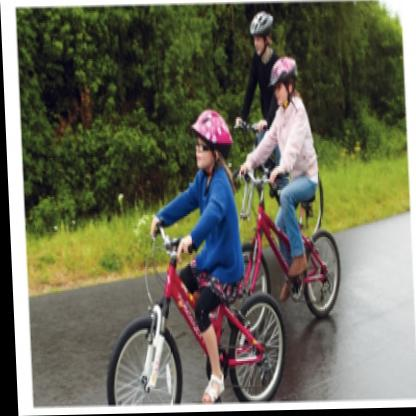With Helmet: (188, 107, 234, 173), (269, 50, 302, 108), (248, 6, 279, 66)
